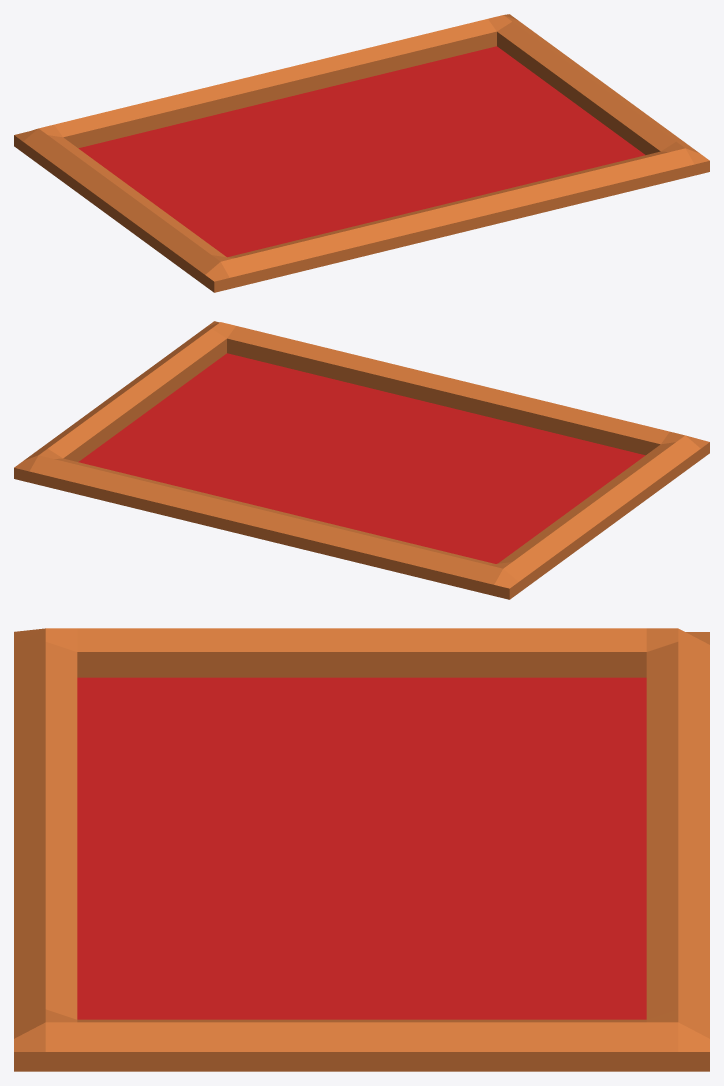
File: portrait.fbx
3 renders of one model, top to bottom at view 1: azimuth 30°, elevation 25°; view 2: azimuth 150°, elevation 25°; view 3: azimuth 270°, elevation 25°, orthographic. The views are drawn at different scales.
Parts seen in each view (by area): view 1: Cube; view 2: Cube; view 3: Cube.
Part boxes in pixels (<box>): Cube: <box>14,14,709,292</box>; Cube: <box>14,321,709,599</box>; Cube: <box>14,628,709,1071</box>.
Size of the model in its own units: 500 by 20 by 350.
1 material, 1 textured.
